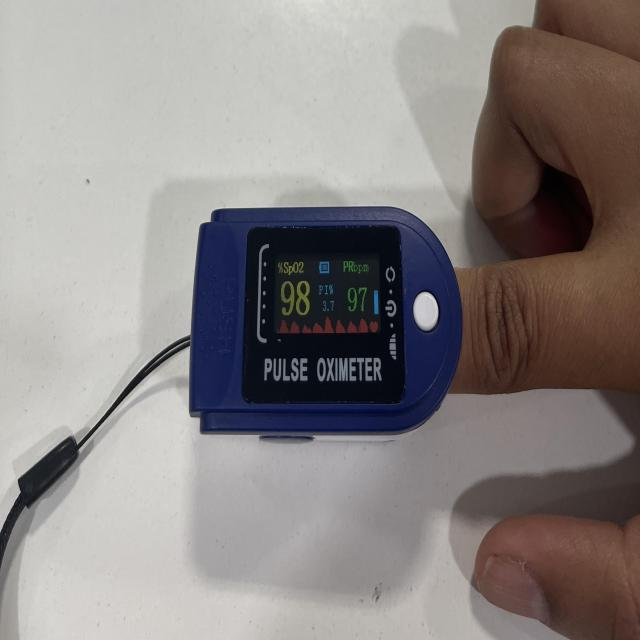spo2: (191, 208, 462, 438)
